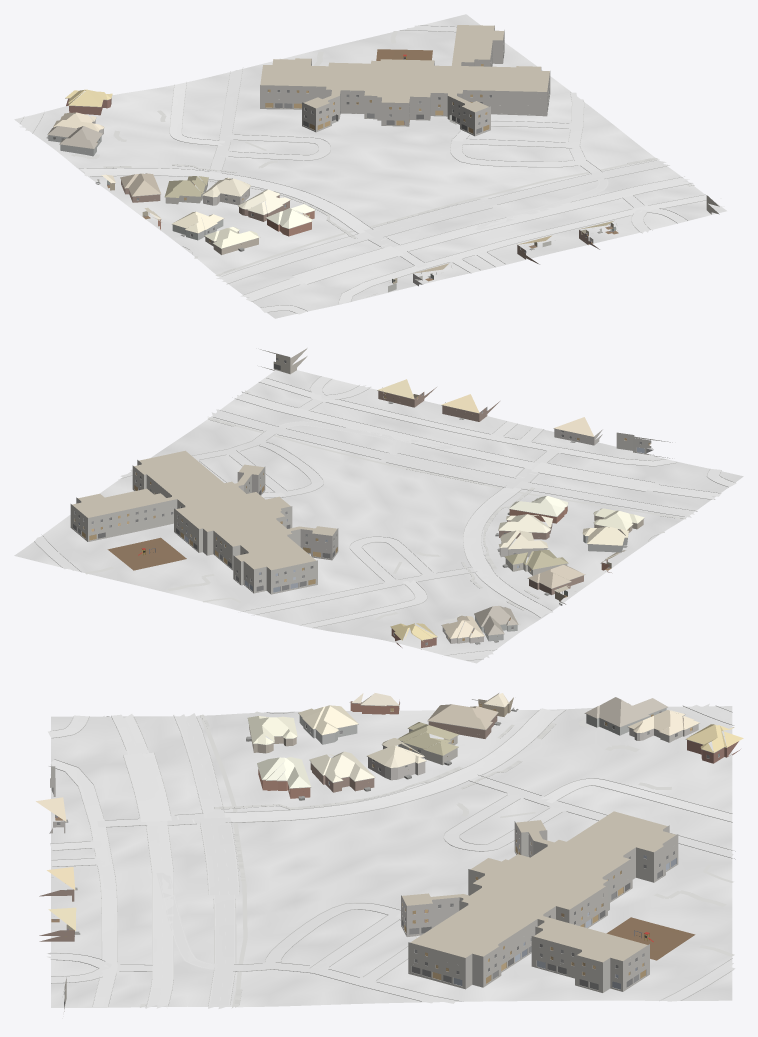
The picture shows the model from 3 angles, top to bottom: view 1: azimuth 30°, elevation 25°; view 2: azimuth 150°, elevation 25°; view 3: azimuth 270°, elevation 25°; orthographic projection. The views are drawn at different scales.
Parts seen in each view (by area): view 1: ground, concrete, roof_flat, asphalt, wall_com, roof, curb, walk, wall, detail, wall_stucco, glass (+3 smaller); view 2: ground, concrete, roof_flat, wall_com, asphalt, roof, curb, detail, wall, walk, wall_stucco, wall_stone (+3 smaller); view 3: ground, concrete, roof_flat, asphalt, roof, wall_com, curb, wall, detail, walk, wall_stucco, glass (+4 smaller).
Part boxes in pixels (left/top/right/bottom): ground: left=14, top=14, right=726, bottom=318; concrete: left=19, top=25, right=706, bottom=314; roof_flat: left=260, top=25, right=549, bottom=112; asphalt: left=216, top=160, right=691, bottom=301; wall_com: left=260, top=25, right=719, bottom=214; roof: left=47, top=89, right=614, bottom=273; curb: left=20, top=25, right=706, bottom=313; walk: left=71, top=31, right=694, bottom=276; wall: left=66, top=98, right=599, bottom=264; detail: left=46, top=39, right=721, bottom=296; wall_stucco: left=48, top=135, right=223, bottom=240; glass: left=53, top=55, right=586, bottom=252; ground: left=14, top=370, right=743, bottom=663; concrete: left=35, top=376, right=736, bottom=660; roof_flat: left=72, top=450, right=336, bottom=570; wall_com: left=70, top=348, right=672, bottom=594; asphalt: left=211, top=392, right=720, bottom=517; roof: left=377, top=379, right=644, bottom=641; curb: left=34, top=376, right=735, bottom=660; detail: left=73, top=360, right=653, bottom=645; wall: left=378, top=387, right=643, bottom=649; walk: left=85, top=390, right=685, bottom=625; wall_stucco: left=475, top=535, right=627, bottom=641; wall_stone: left=442, top=429, right=602, bottom=643; ground: left=51, top=706, right=732, bottom=1007; concrete: left=47, top=703, right=735, bottom=1007; roof_flat: left=402, top=811, right=675, bottom=962; asphalt: left=112, top=713, right=239, bottom=1008; roof: left=36, top=693, right=743, bottom=930; wall_com: left=50, top=766, right=678, bottom=1011; curb: left=48, top=705, right=735, bottom=1007; wall: left=39, top=697, right=740, bottom=941; detail: left=51, top=699, right=726, bottom=1008; walk: left=140, top=711, right=734, bottom=1008; wall_stucco: left=299, top=703, right=666, bottom=765; glass: left=57, top=711, right=719, bottom=1007.
Size of the model in its own units: 265 by 16.17 by 268.
